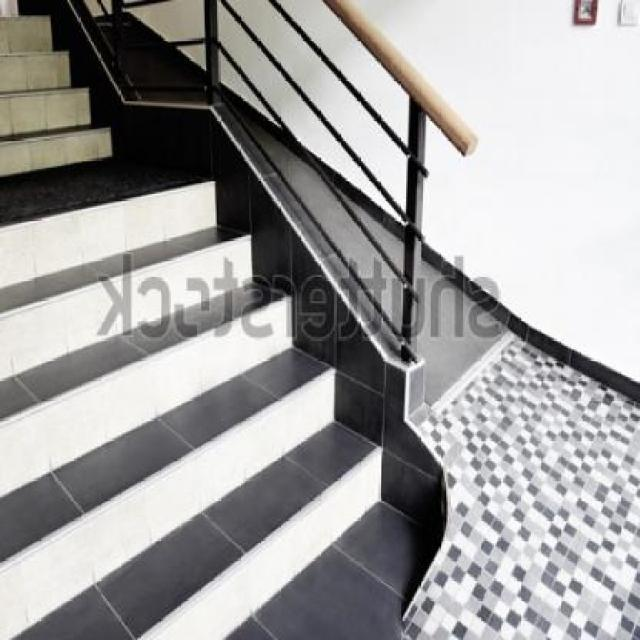stair: (0, 0, 411, 638)
